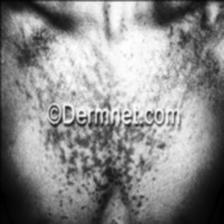Toxin: (127, 152, 145, 182), (89, 160, 100, 177)
